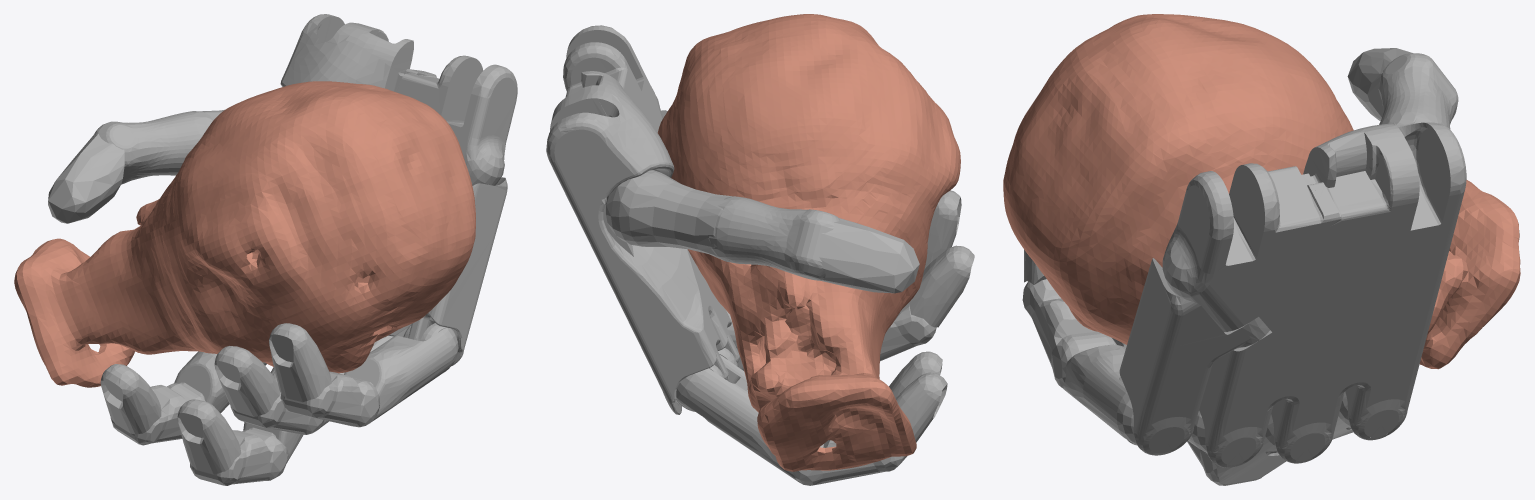
3 views of the same model, side by side, from view 1: azimuth 30°, elevation 25°; view 2: azimuth 150°, elevation 25°; view 3: azimuth 270°, elevation 25° (orthographic). The views are drawn at different scales.
Parts seen in each view (by area): view 1: world; view 2: world; view 3: world.
Part boxes in pixels (left/top/right/bottom): world: left=14, top=14, right=517, bottom=485; world: left=546, top=14, right=974, bottom=485; world: left=1003, top=14, right=1520, bottom=485.
Size of the model in its own units: 1.05 by 0.9772 by 0.9568.
